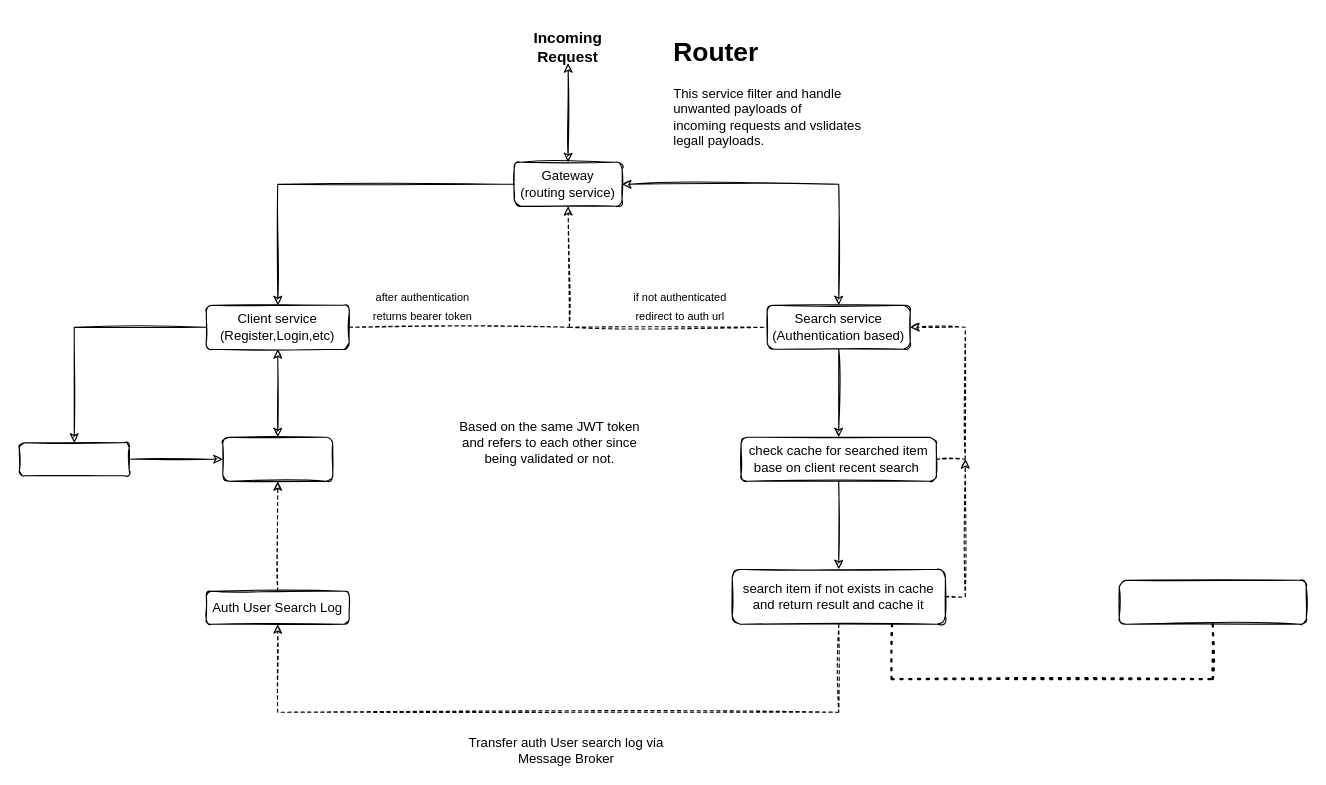
This 1326x785 diagram has some shape labels left out. Each missing label, with the centre of its shape:
Handle apis to search values: point 1212,601
Login (Existing User): point 277,458
Register: point 73,459
